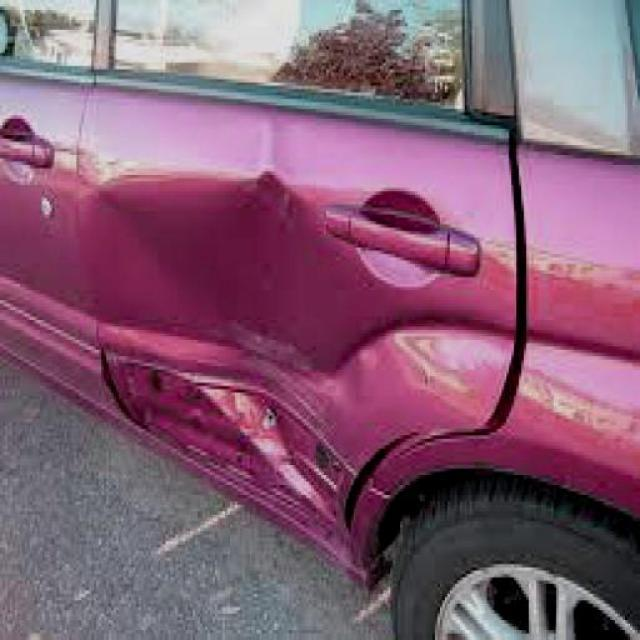Car-Damage: (84, 160, 514, 566)
